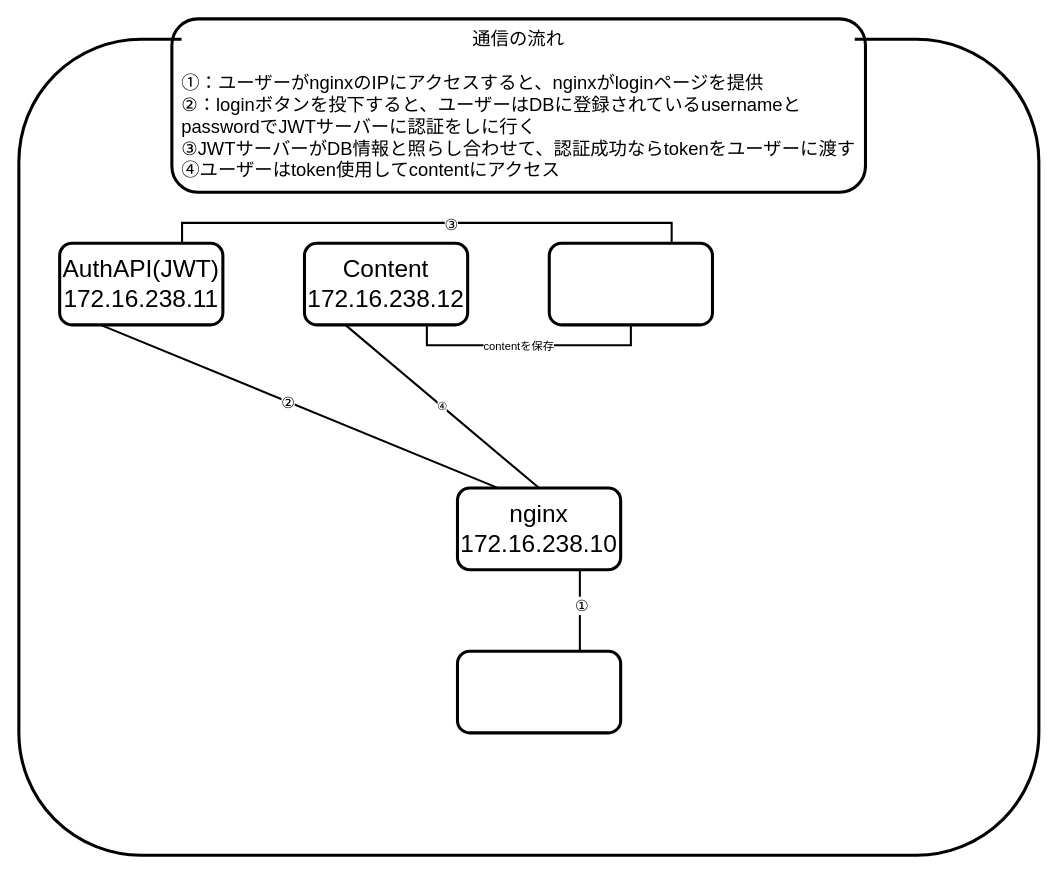
This 1058x874 diagram has some shape labels left out. Each missing label, with the centre of its shape:
bridge 172.16.238.1: point (538, 691)
DB 172.16.238.13: point (630, 283)
